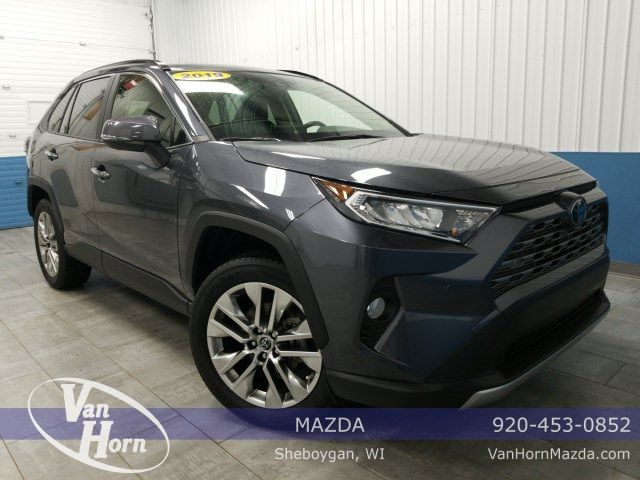Toyota RAV-4: (25, 58, 611, 430)
